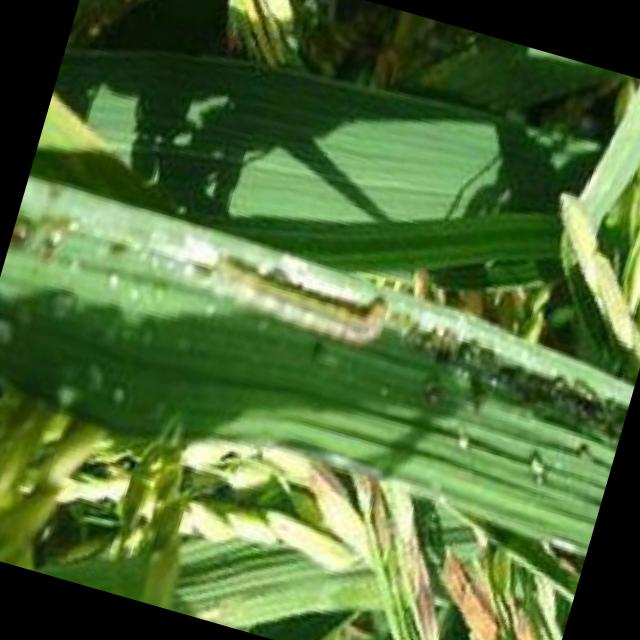leaf-folder: (186, 202, 429, 402)
